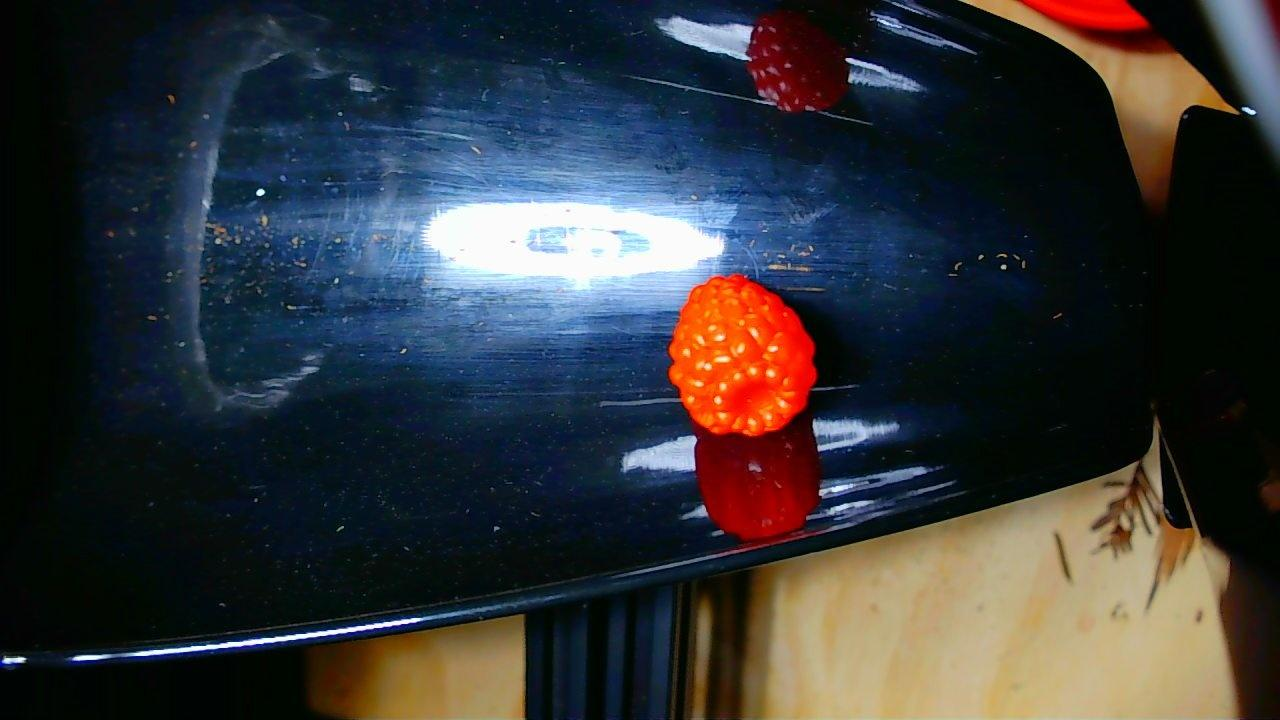berry: (668, 275, 816, 436)
